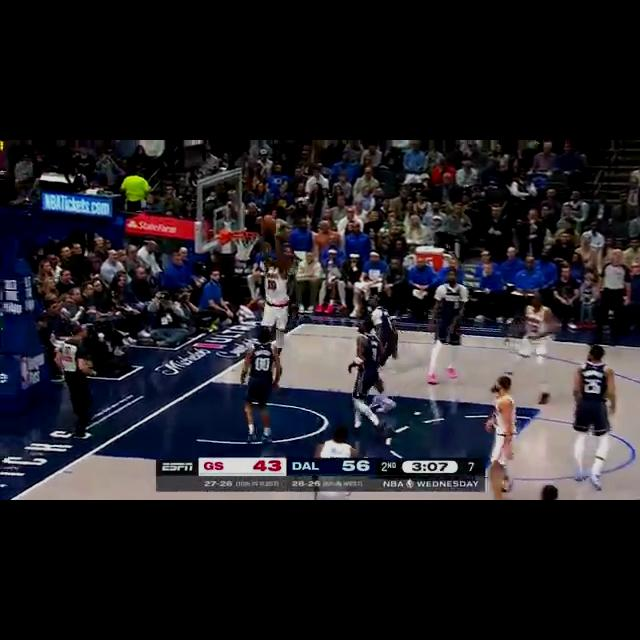Ball: (260, 212, 278, 236)
Team-1-Player: (570, 343, 618, 491), (426, 264, 470, 384), (238, 326, 284, 440), (346, 318, 389, 437), (358, 292, 404, 364)
Team-2-Player: (494, 292, 556, 402), (253, 221, 293, 343), (480, 375, 520, 493)
